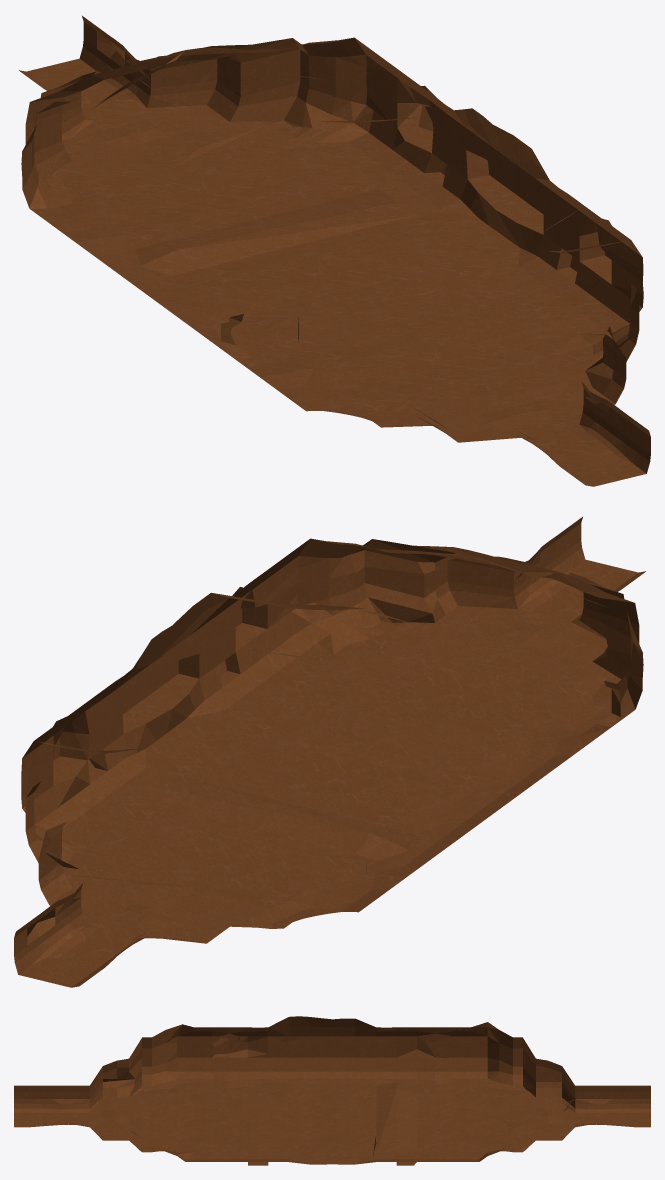
File: cave_base_texture.glb
3 renders of one model, top to bottom at view 1: azimuth 30°, elevation 25°; view 2: azimuth 150°, elevation 25°; view 3: azimuth 270°, elevation 25°, orthographic. The views are drawn at different scales.
Visible parts, largest first — view 1: cave_base; view 2: cave_base; view 3: cave_base.
Part boxes in pixels (box(x1,y1,x2,y2)): cave_base: box(19, 16, 650, 486); cave_base: box(14, 517, 645, 987); cave_base: box(14, 1016, 650, 1165).
Bounding box in the file's own units: 0.6831 × 0.2455 × 1.75.
Materials: 1 (1 with a texture image).
